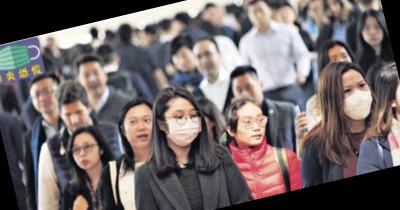with_mask: (161, 103, 206, 151), (337, 76, 377, 122)
without_mask: (231, 110, 270, 149), (121, 111, 158, 151), (69, 137, 102, 172), (232, 77, 264, 110), (29, 83, 60, 117), (77, 66, 107, 99), (193, 46, 221, 78), (359, 19, 387, 48), (61, 106, 90, 133), (246, 4, 272, 30), (170, 49, 197, 74), (324, 0, 344, 20)
